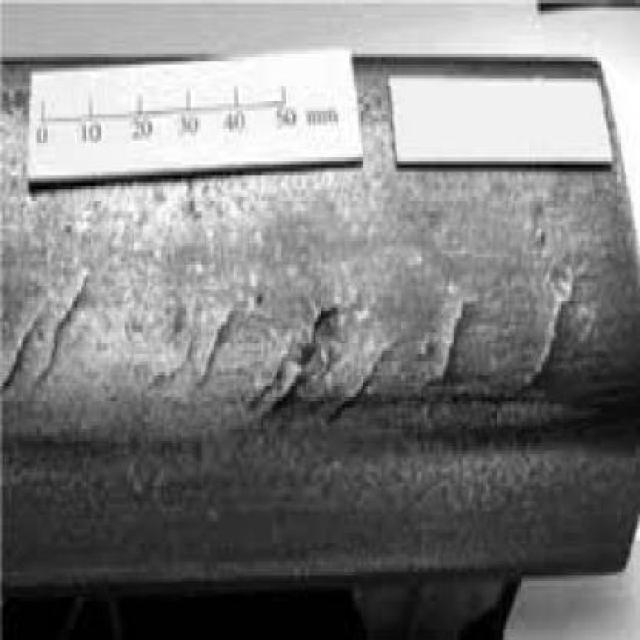defective: (3, 210, 640, 548)
